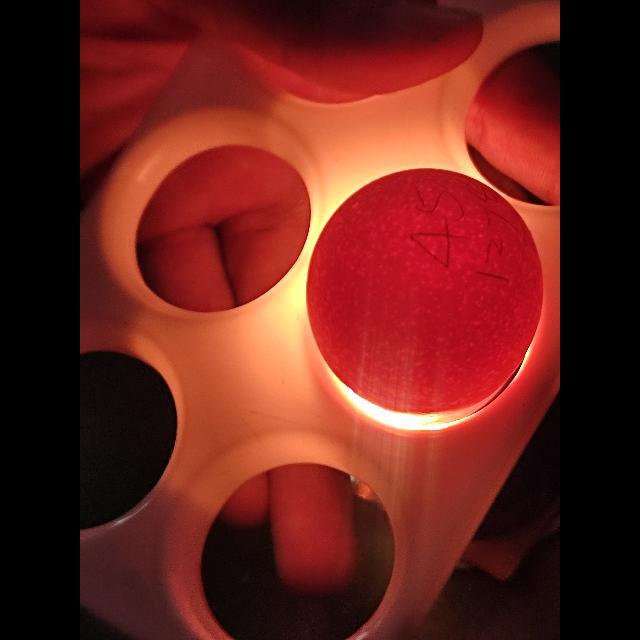Infertile: (306, 160, 538, 416)
